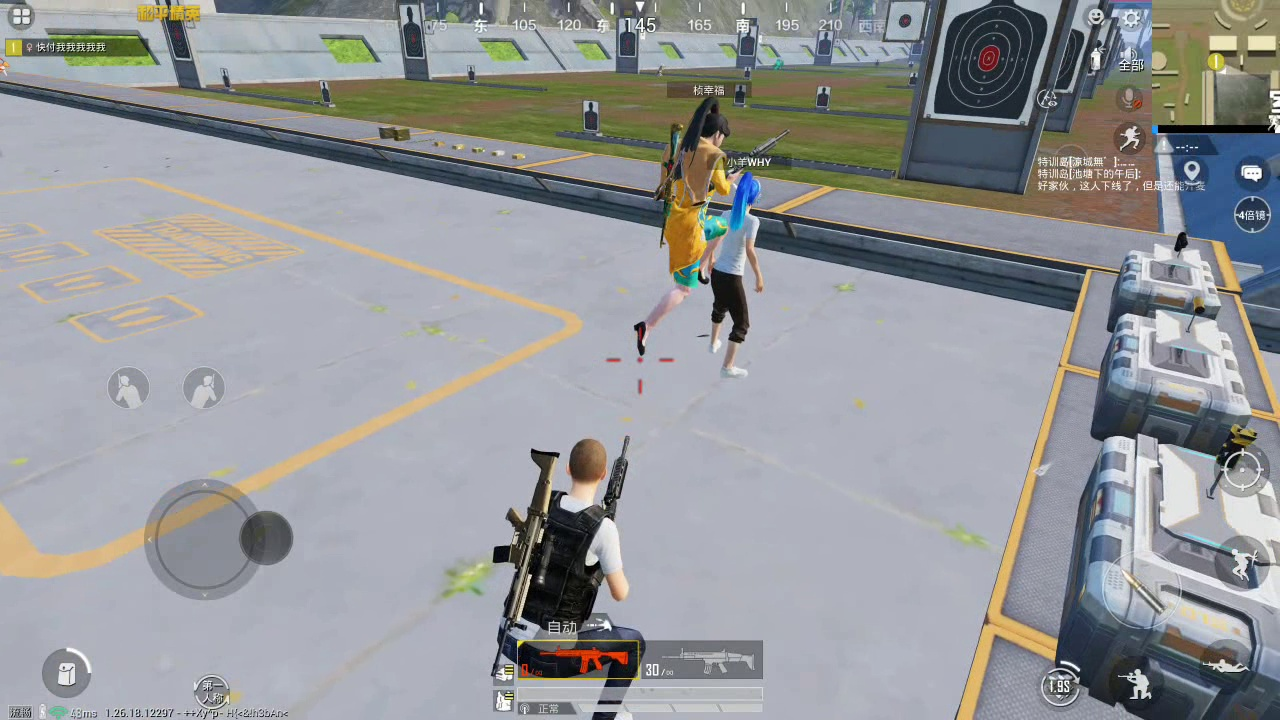enemy: (635, 101, 721, 365), (711, 173, 755, 384)
